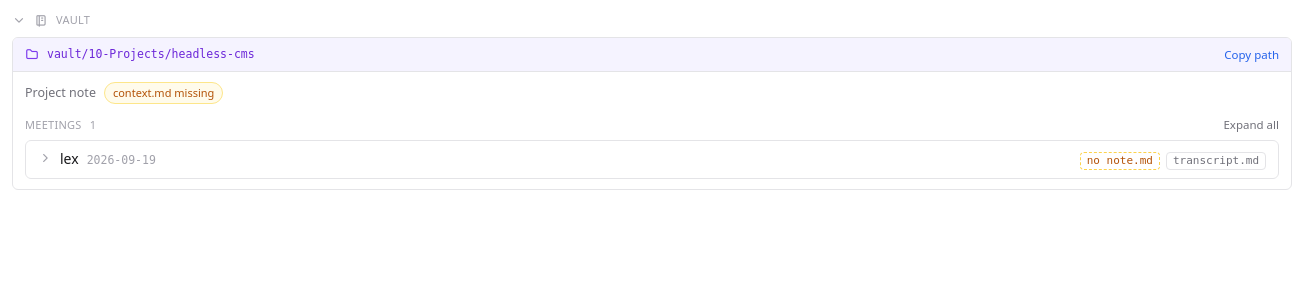
Test: a meeting whose note was never saved › says 'never saved' instead of a size when the row is expanded
Click the button with test id "vault-meeting-2026-09-19-lex": (121,160) x1=38 y1=148 x2=1266 y2=170
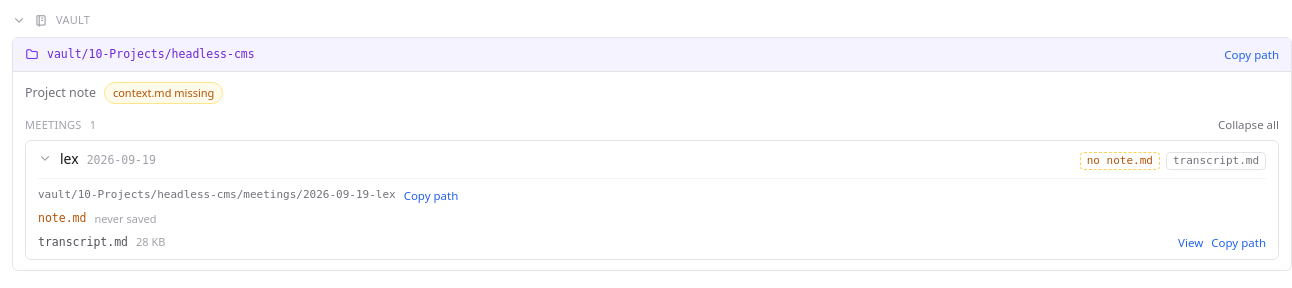
Check: the element with test id "vault-meeting-body-2026-09-19-lex" shows "never saved", box x1=94 y1=211 x2=156 y2=226
Check: the element with test id "vault-meeting-body-2026-09-19-lex" shows "28 KB", box x1=136 y1=234 x2=165 y2=249
